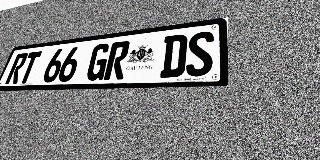6: (56, 46, 83, 82), (41, 48, 67, 83)
D: (159, 34, 188, 78)
G: (85, 43, 112, 81)
R: (103, 40, 131, 80), (5, 53, 29, 84)
S: (185, 30, 214, 77)
T: (17, 51, 42, 84)
